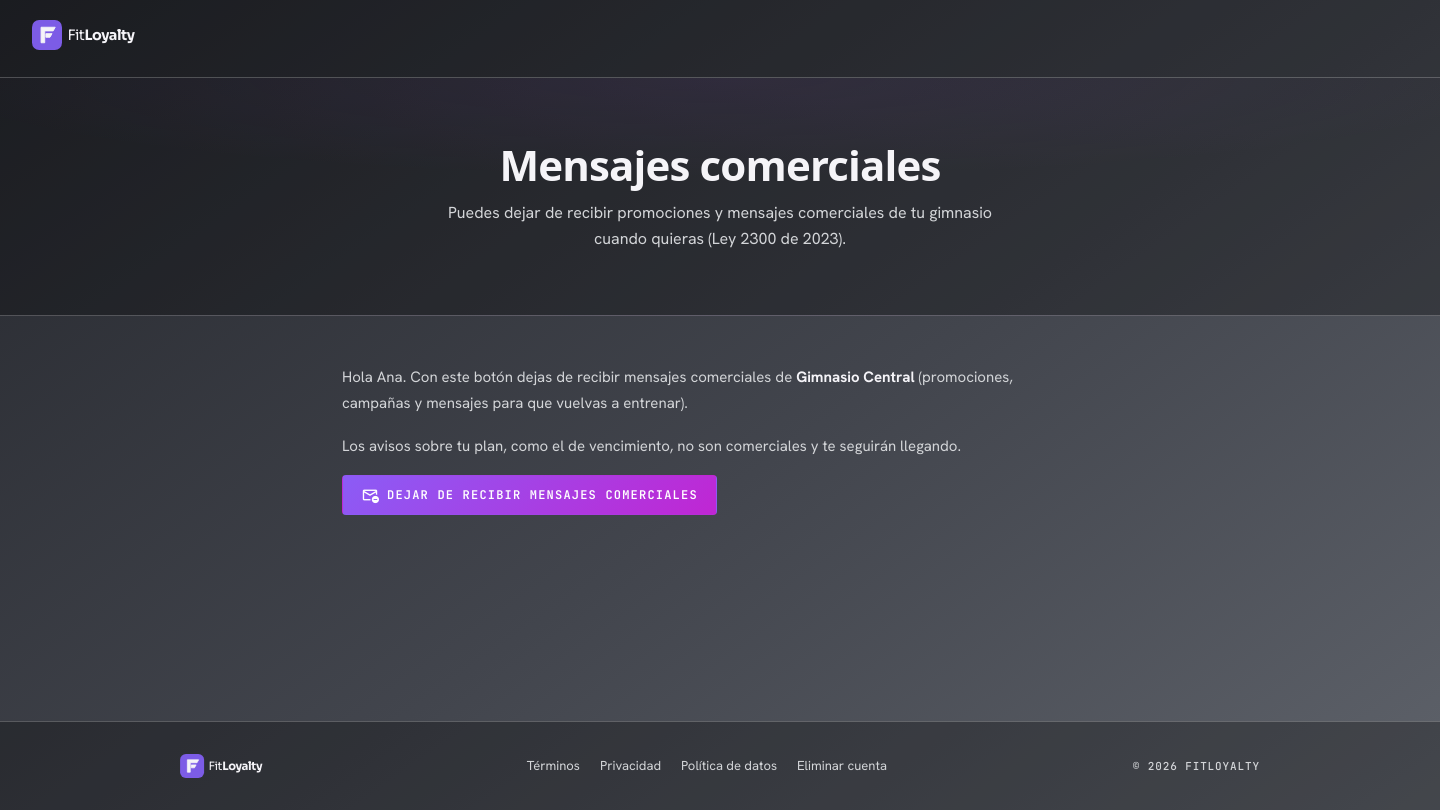
Test: BajaMensajesPage: darse de baja › should show the message of the rate limit and keep the button to try again when the unsubscription cannot be saved
The width and height of the screenshot is (1440, 810).
Click the button "Dejar de recibir mensajes comerciales" at (529, 495), box [342, 475, 717, 515]
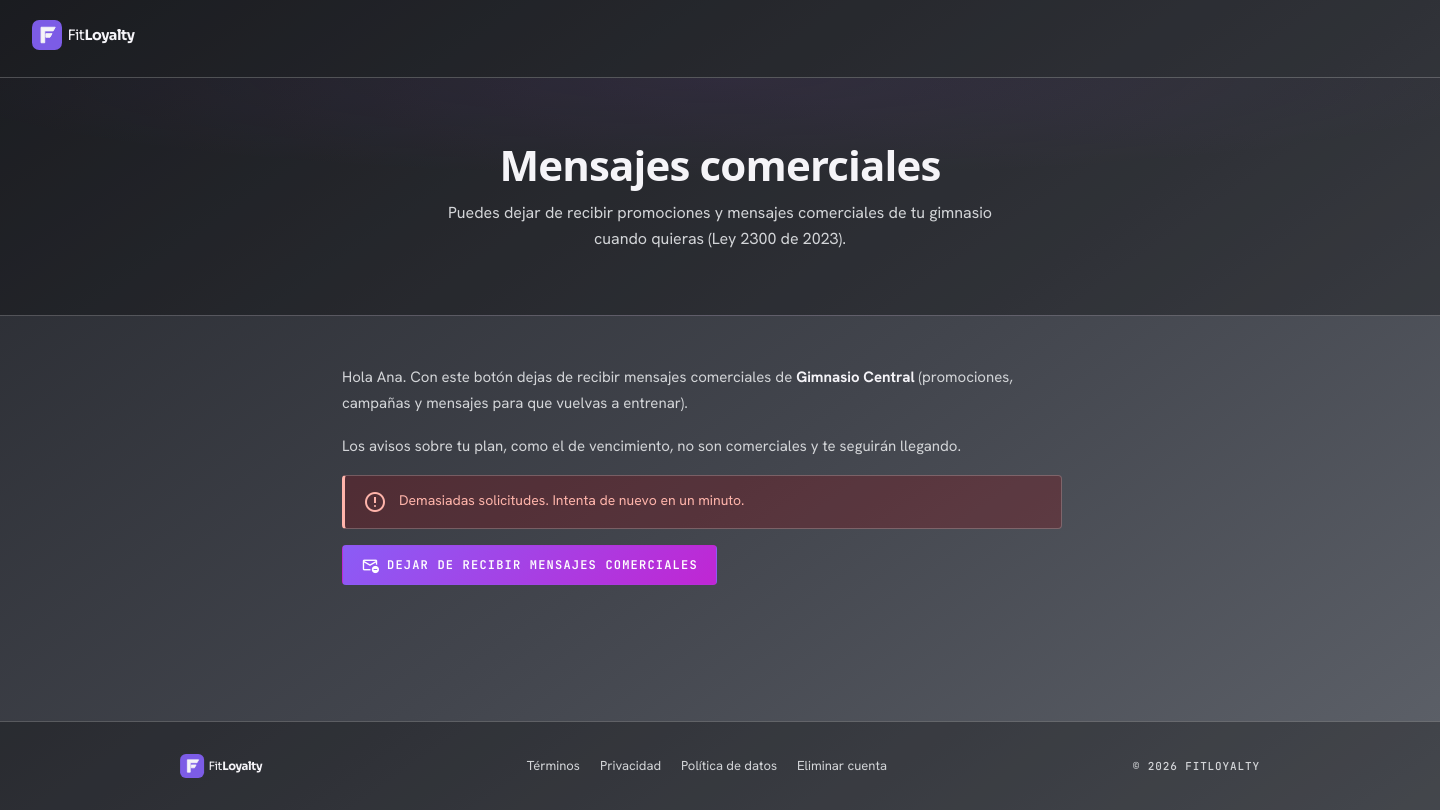
Expected: the button "Dejar de recibir mensajes comerciales" is enabled, [342, 545, 717, 585]
Expected: the text "Demasiadas solicitudes. Intenta de nuevo en un minuto." is shown, [399, 490, 744, 511]
